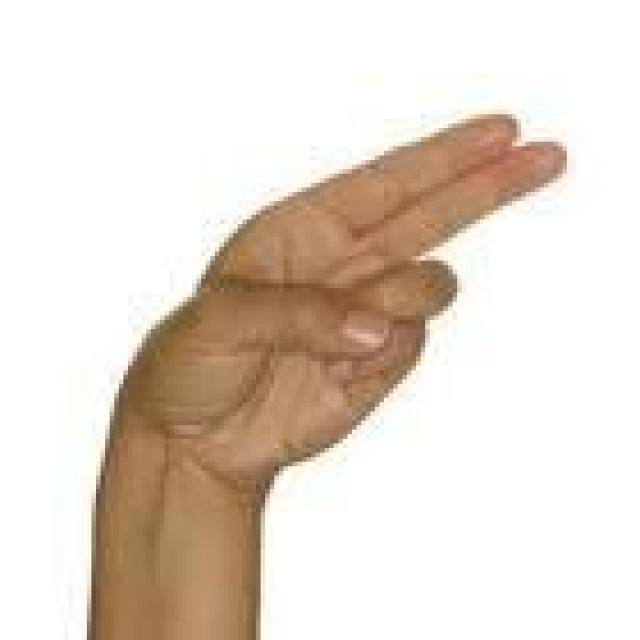H: (78, 100, 580, 503)
